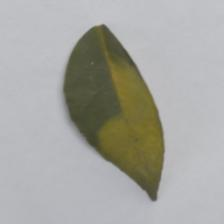greening: (86, 103, 172, 171)
